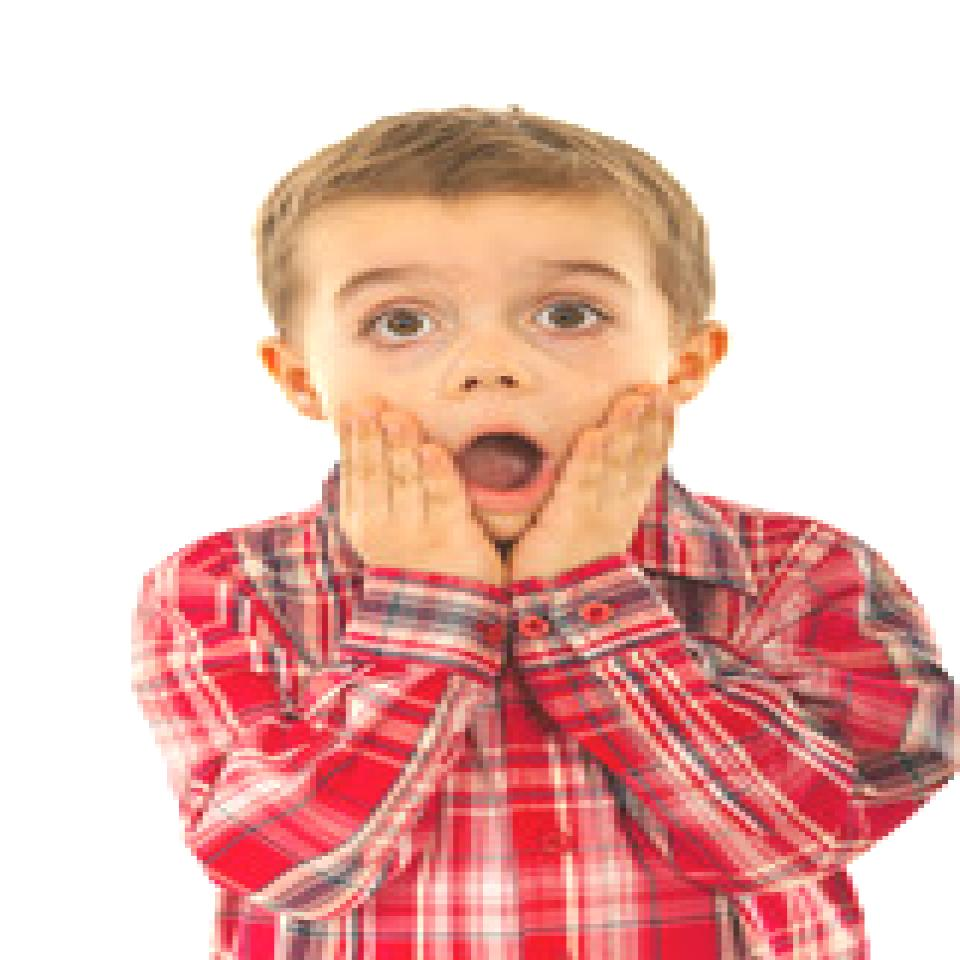Scared: (298, 208, 674, 583)
